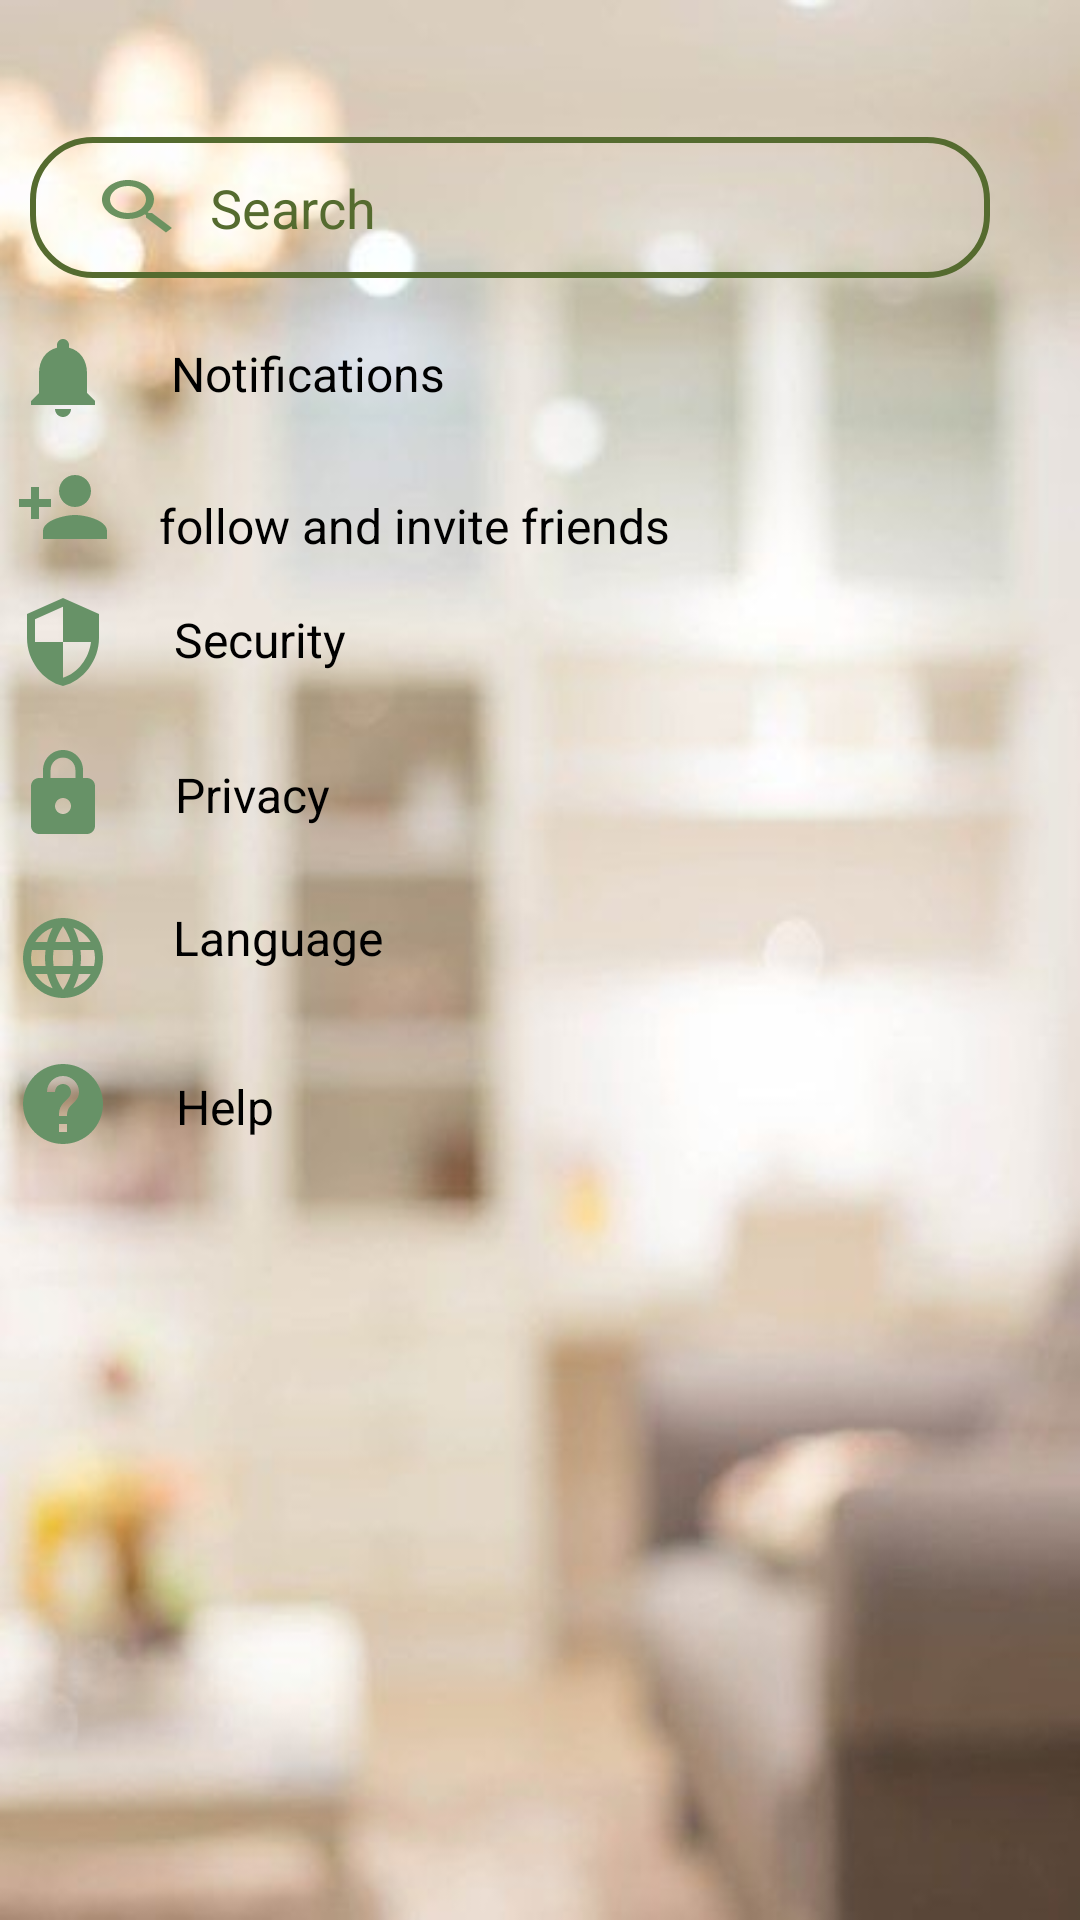

Named icons in this screenshot (1080px x 1920px) and their centers, (x,y):
lock: (63,794)
person add: (65,507)
